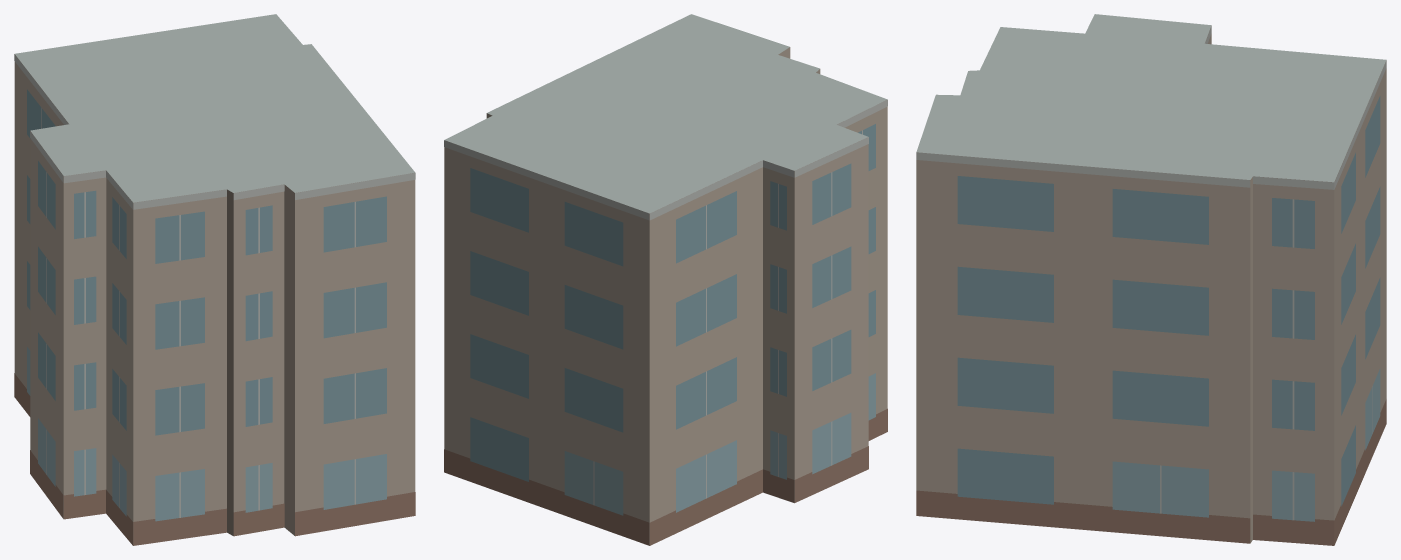
The model's file is survey-upis-32531170.glb.
The picture shows the model from 3 angles, left to right: view 1: azimuth 30°, elevation 25°; view 2: azimuth 150°, elevation 25°; view 3: azimuth 270°, elevation 25°; orthographic projection. The views are drawn at different scales.
Visible parts, largest first — view 1: survey-upis-32531170.tmp; view 2: survey-upis-32531170.tmp; view 3: survey-upis-32531170.tmp.
Boxes of the visible parts, left/top/right/bottom form: survey-upis-32531170.tmp: left=14, top=14, right=415, bottom=545; survey-upis-32531170.tmp: left=444, top=14, right=887, bottom=545; survey-upis-32531170.tmp: left=916, top=14, right=1386, bottom=545.
Size of the model in its own units: 11.52 by 11.6 by 13.61.
